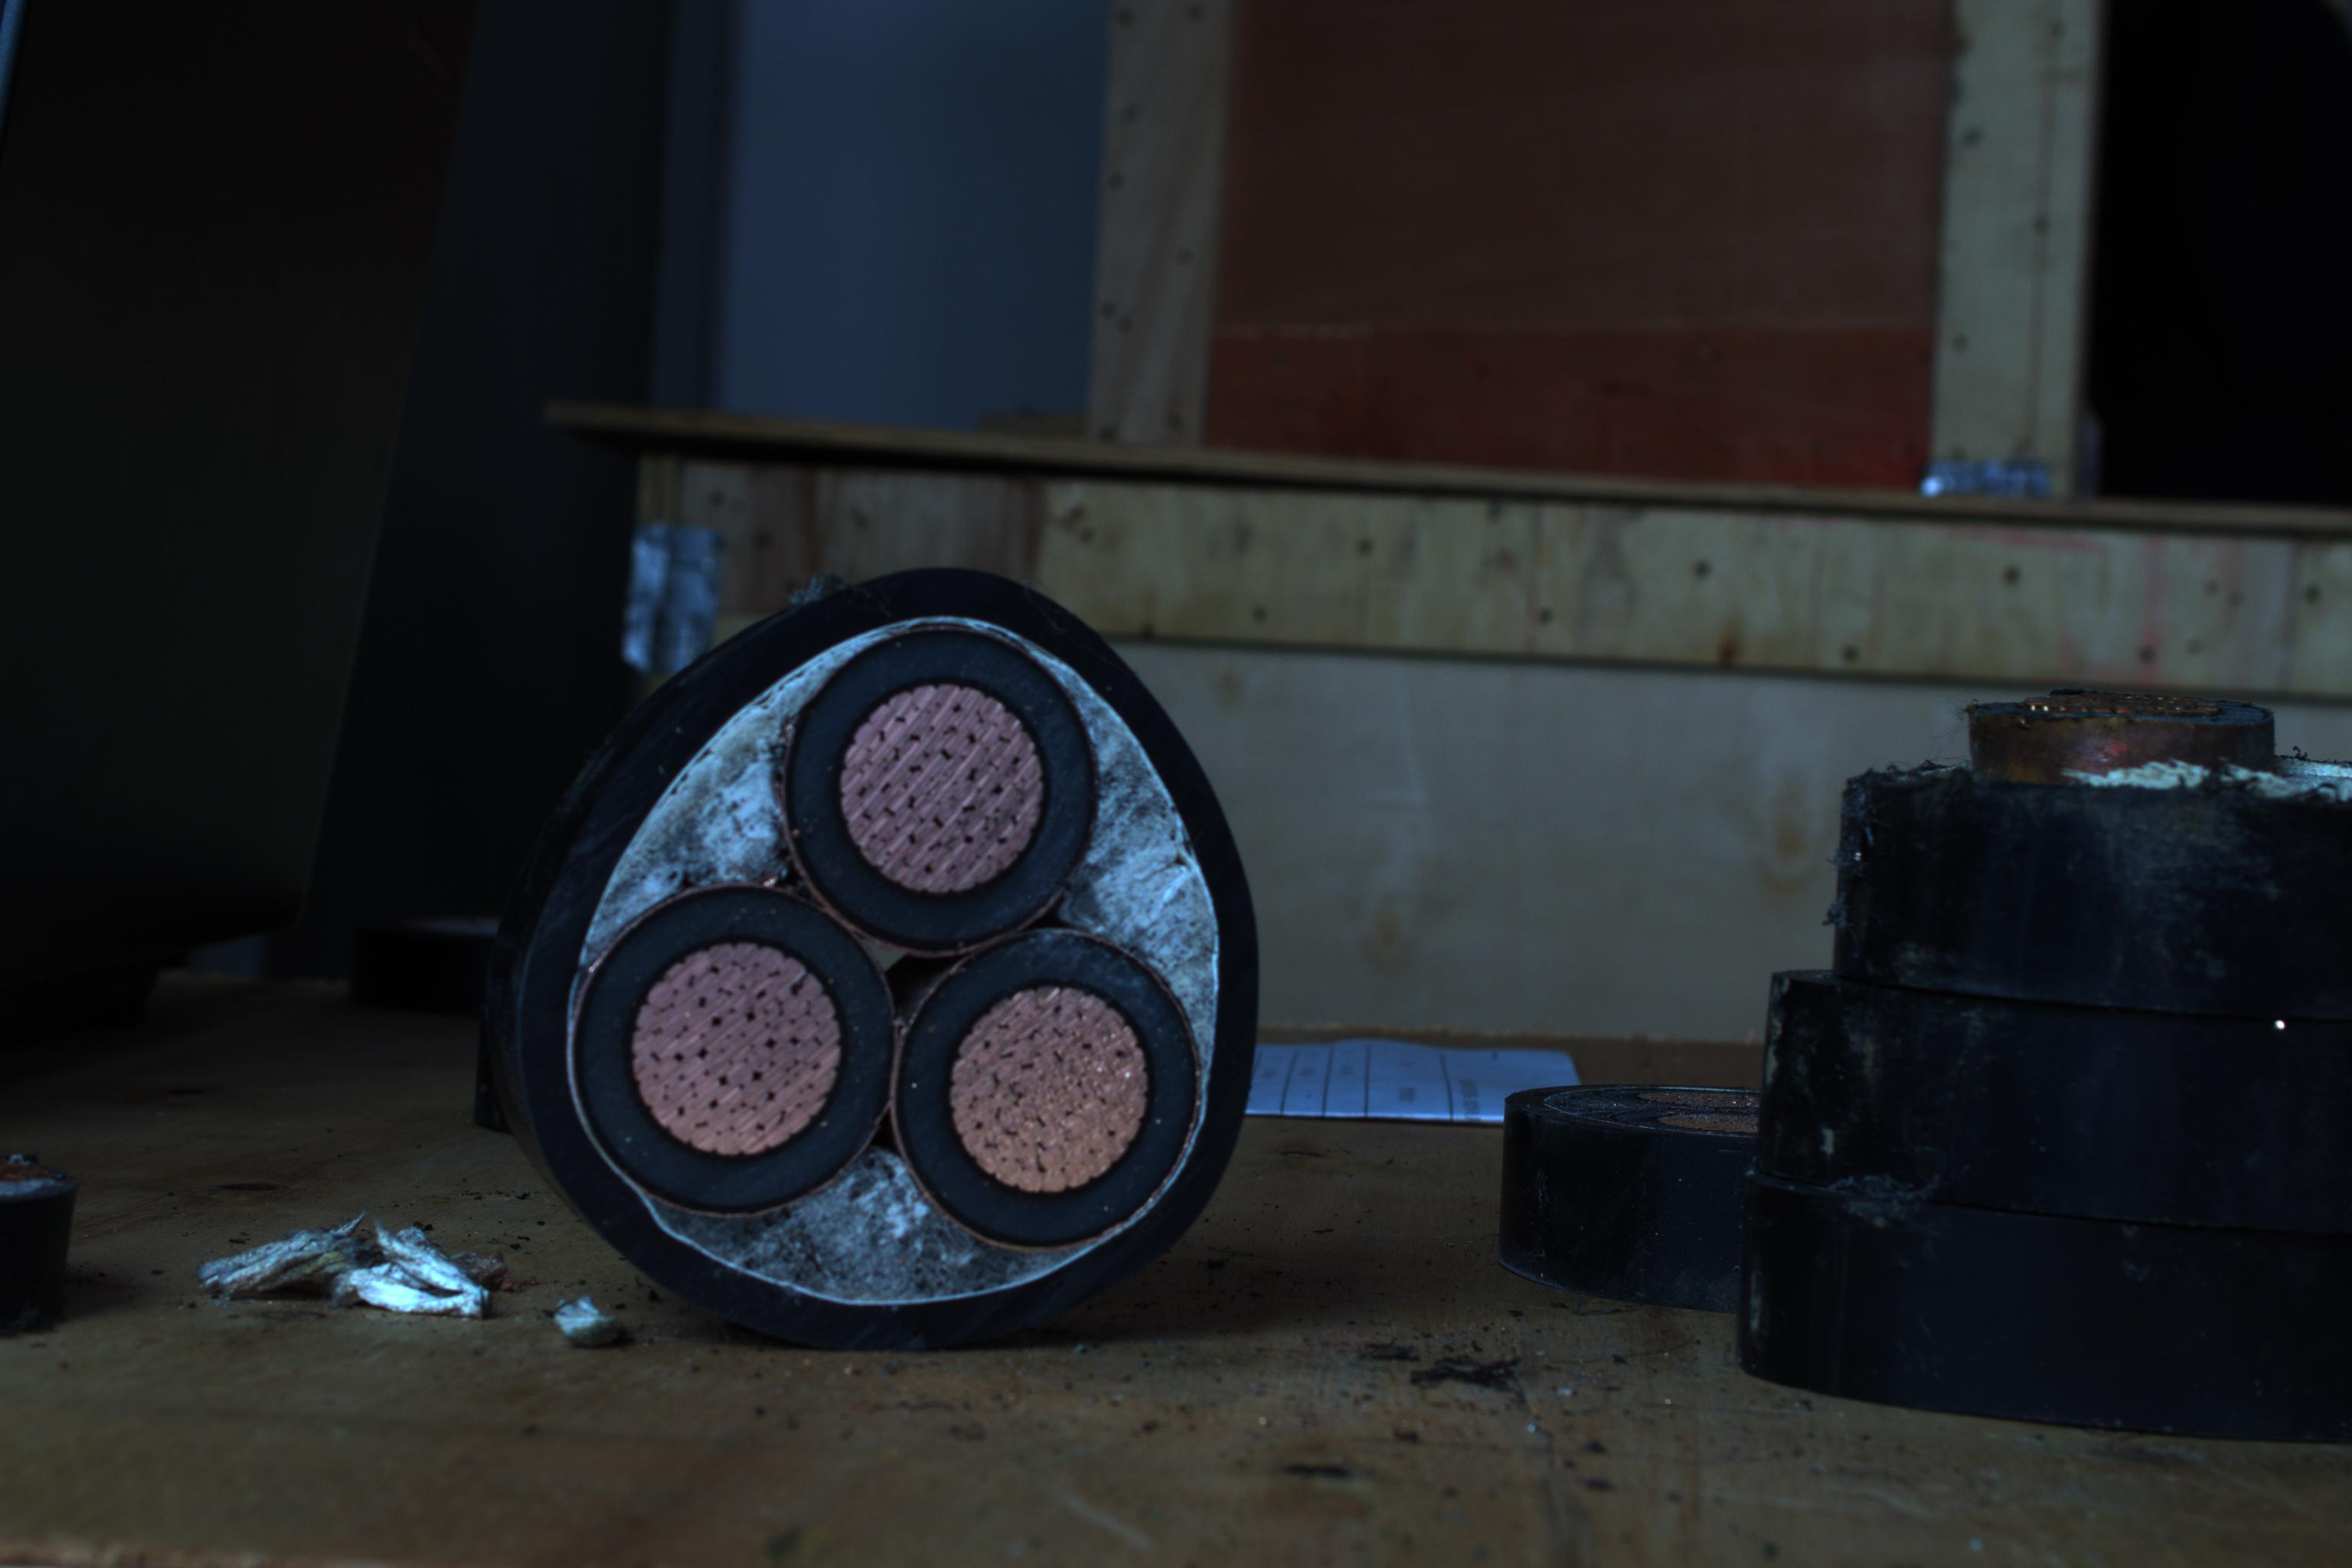ZA_YJV_8.7_10kV_3x400: (556, 581, 1246, 1305)
